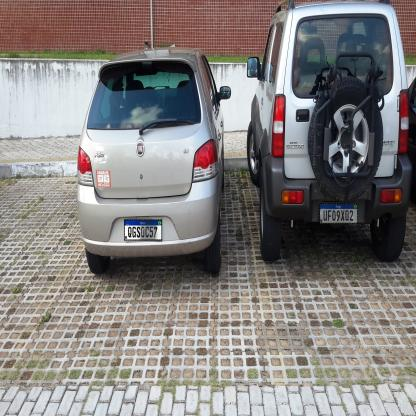PlacaM: (124, 219, 162, 241), (319, 203, 358, 224)
